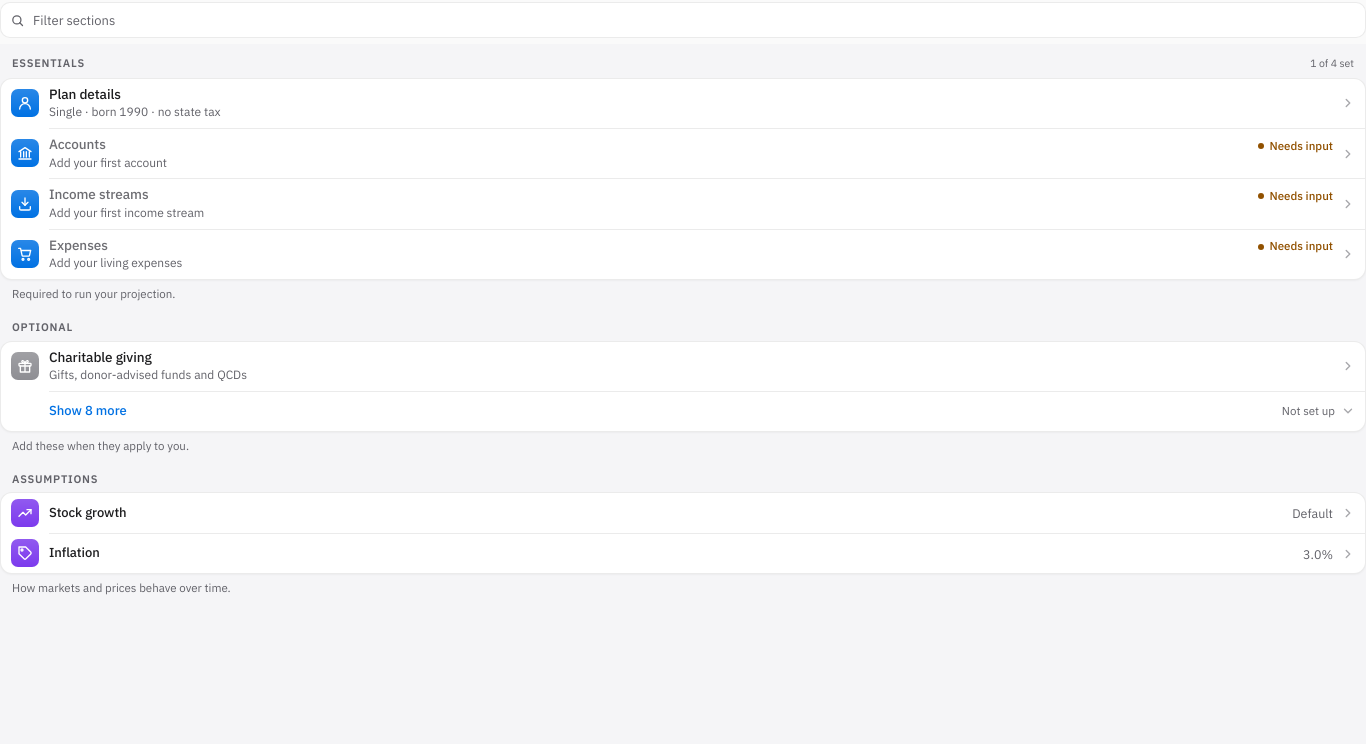
shows no milestones once the FI estimate is removed from an empty plan
The image size is (1366, 744).
Expected: the text "Add your first account" is shown, x1=49 y1=155 x2=167 y2=170
Click the button with aria-label "Show 8 more optional sections". click: (683, 411)
box: x1=1 y1=391 x2=1365 y2=431
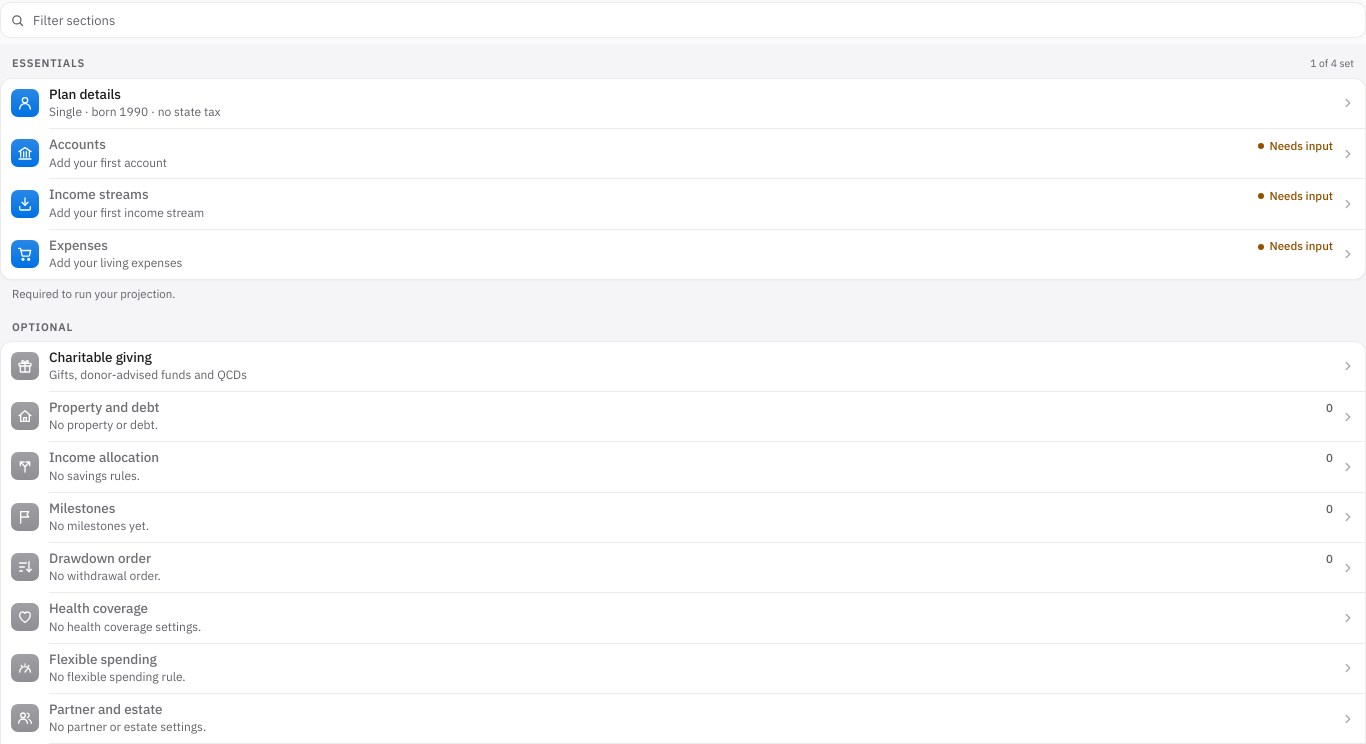
Now the text "No milestones yet." is shown, box x1=49 y1=518 x2=149 y2=533
